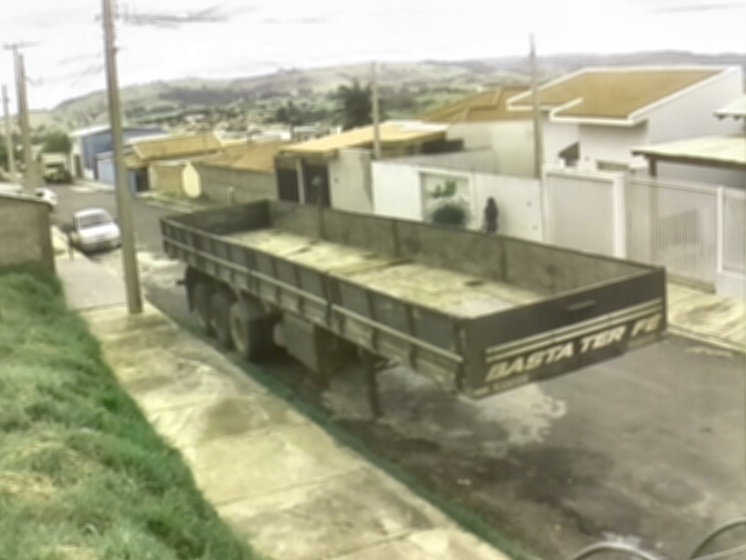person: (480, 196, 500, 236)
